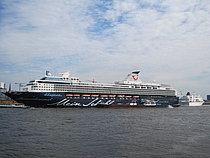Ship: (2, 68, 185, 111)
